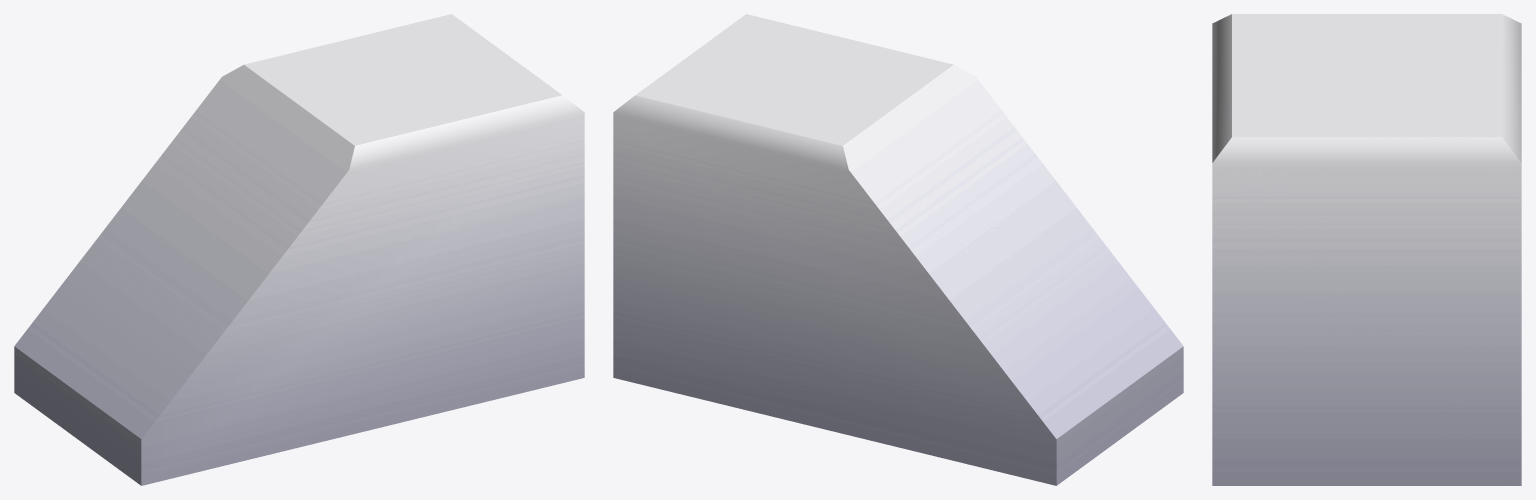
File: brick-kit--none-hq-brick-slope-1x2.glb
The picture shows the model from 3 angles, left to right: view 1: azimuth 30°, elevation 25°; view 2: azimuth 150°, elevation 25°; view 3: azimuth 270°, elevation 25°; orthographic projection. The views are drawn at different scales.
Parts seen in each view (by area): view 1: none-hq-brick-slope-1x2; view 2: none-hq-brick-slope-1x2; view 3: none-hq-brick-slope-1x2.
Boxes of the visible parts, box(x1,y1,x2,y2) form: none-hq-brick-slope-1x2: box(14, 14, 584, 485); none-hq-brick-slope-1x2: box(613, 14, 1183, 485); none-hq-brick-slope-1x2: box(1212, 14, 1521, 485).
Size of the model in its own units: 0.159 by 0.096 by 0.079.
1 material, 1 textured.
